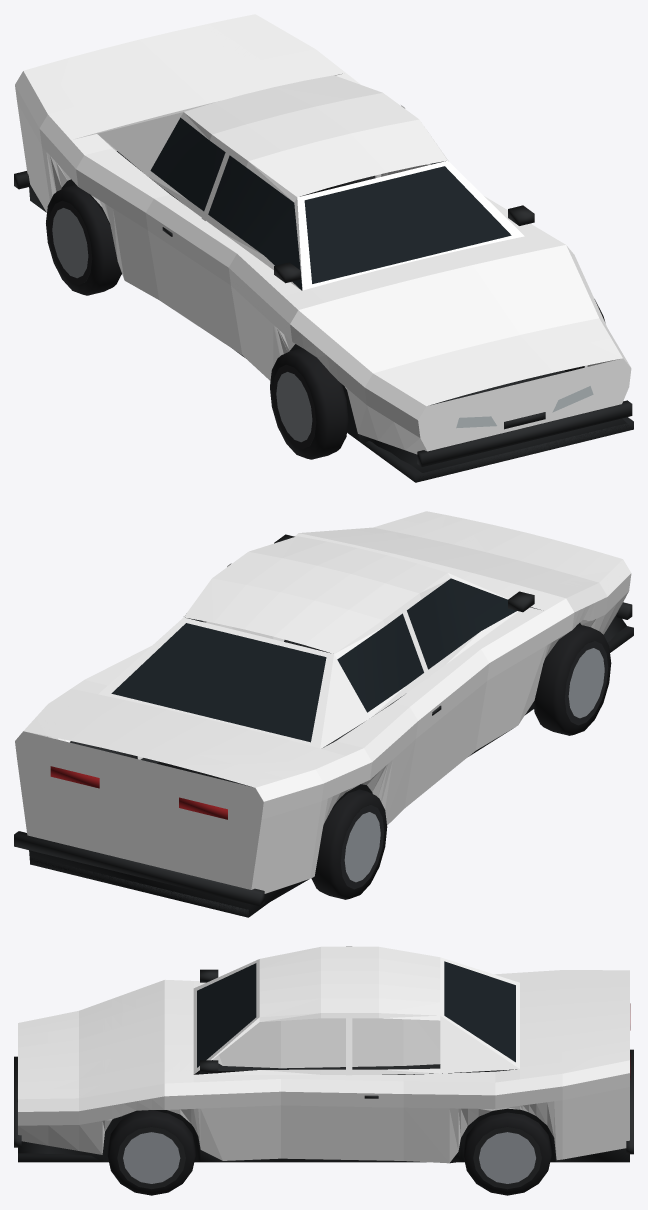
File: ashcombe_assobio.glb
The picture shows the model from 3 angles, top to bottom: view 1: azimuth 30°, elevation 25°; view 2: azimuth 150°, elevation 25°; view 3: azimuth 270°, elevation 25°; orthographic projection. The views are drawn at different scales.
Visible parts, largest first — view 1: Body_Paint, Body_Details, Mount_FrontLeft_Wheel_Details, Mount_RearLeft_Wheel_Details; view 2: Body_Paint, Body_Details, Mount_FrontLeft_Wheel_Details, Mount_RearLeft_Wheel_Details; view 3: Body_Paint, Body_Details, Mount_FrontRight_Wheel_Details, Mount_RearRight_Wheel_Details.
Boxes of the visible parts, <box> form: Body_Paint: <box>15,14,631,454</box>; Body_Details: <box>14,117,633,482</box>; Mount_FrontLeft_Wheel_Details: <box>270,348,348,459</box>; Mount_RearLeft_Wheel_Details: <box>46,185,121,295</box>; Body_Paint: <box>15,511,631,893</box>; Body_Details: <box>14,534,633,917</box>; Mount_FrontLeft_Wheel_Details: <box>533,624,611,735</box>; Mount_RearLeft_Wheel_Details: <box>311,789,387,899</box>; Body_Paint: <box>18,946,629,1163</box>; Body_Details: <box>14,961,633,1163</box>; Mount_FrontRight_Wheel_Details: <box>107,1110,195,1195</box>; Mount_RearRight_Wheel_Details: <box>463,1112,551,1195</box>.
Bounding box in the file's own units: 1.94 × 1.29 × 4.43.
Materials: 2 (1 with a texture image).
